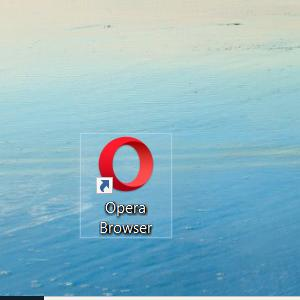opera: (96, 136, 154, 194)
